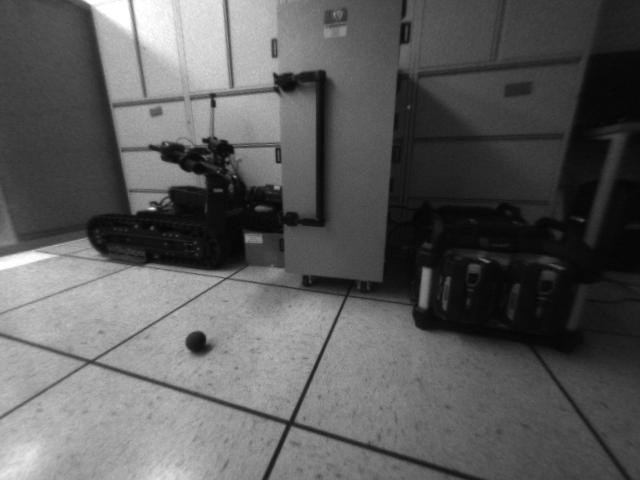dogtoy: (183, 322, 211, 357)
